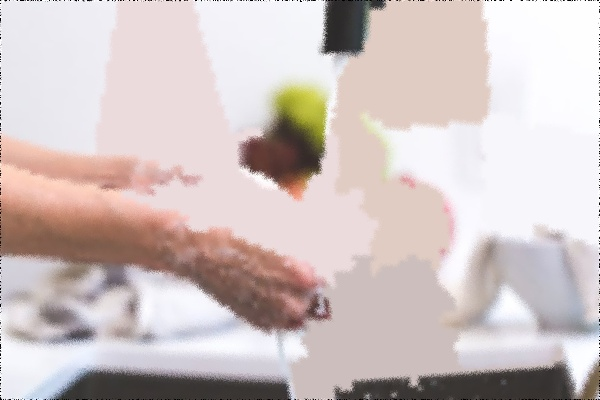washing hand: (77, 2, 505, 337)
